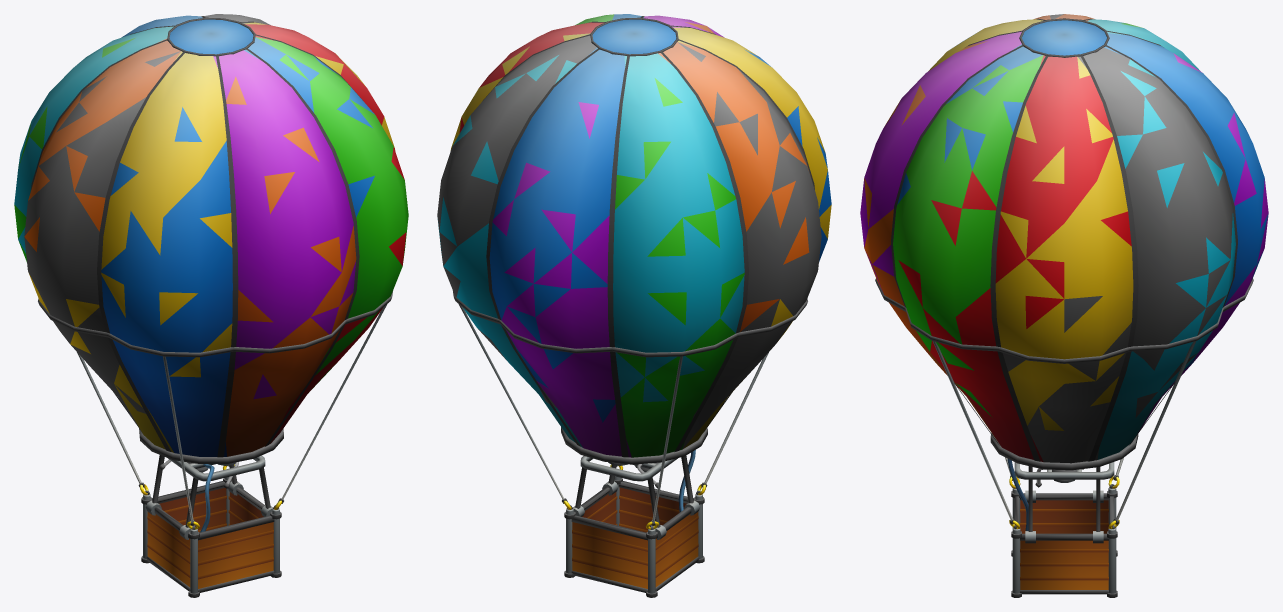
The model's file is Balloon_1A.fbx.
3 renders of one model, left to right at view 1: azimuth 30°, elevation 25°; view 2: azimuth 150°, elevation 25°; view 3: azimuth 270°, elevation 25°, orthographic.
Parts seen in each view (by area): view 1: Balloon_1A; view 2: Balloon_1A; view 3: Balloon_1A.
Boxes of the visible parts, <box> form: Balloon_1A: <box>14,14,408,597</box>; Balloon_1A: <box>437,14,831,597</box>; Balloon_1A: <box>860,14,1268,597</box>.
Bounding box in the file's own units: 8.17 × 11.94 × 8.17.
